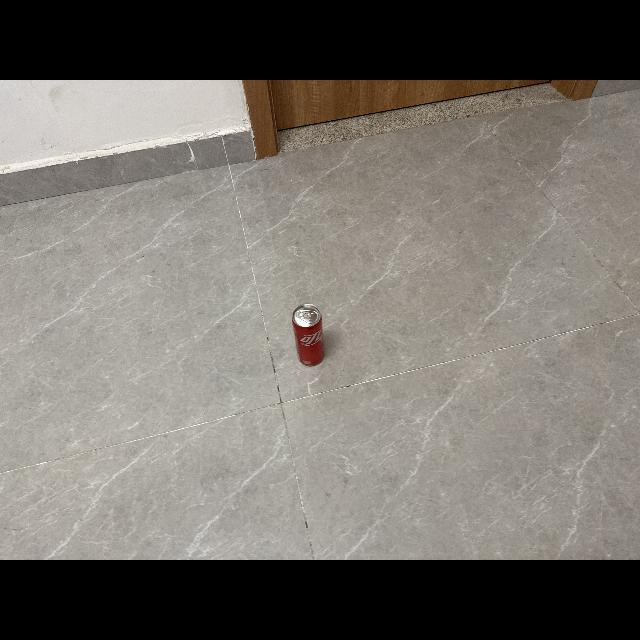Cola: (289, 302, 329, 368)
